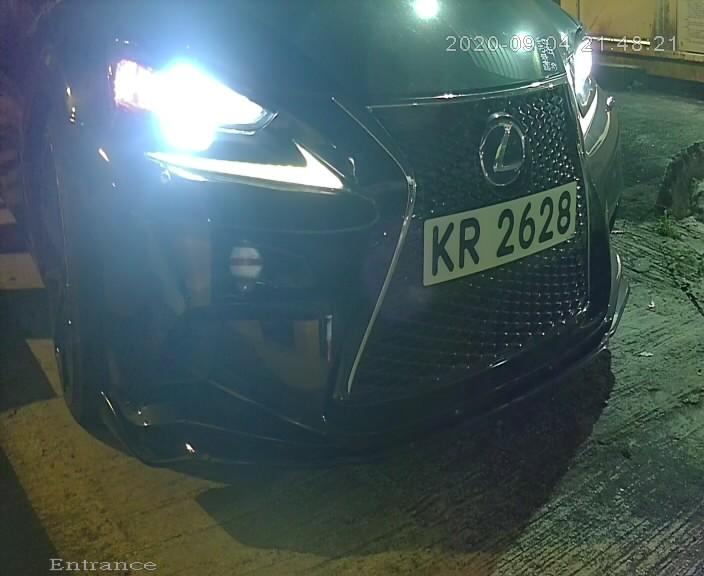Car: (4, 3, 670, 505)
License Plate: (402, 158, 590, 302)
